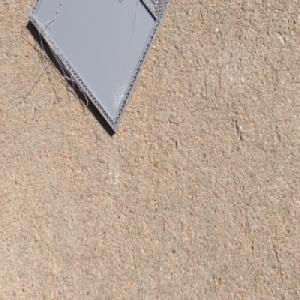PlasticPart: (27, 0, 173, 134)
